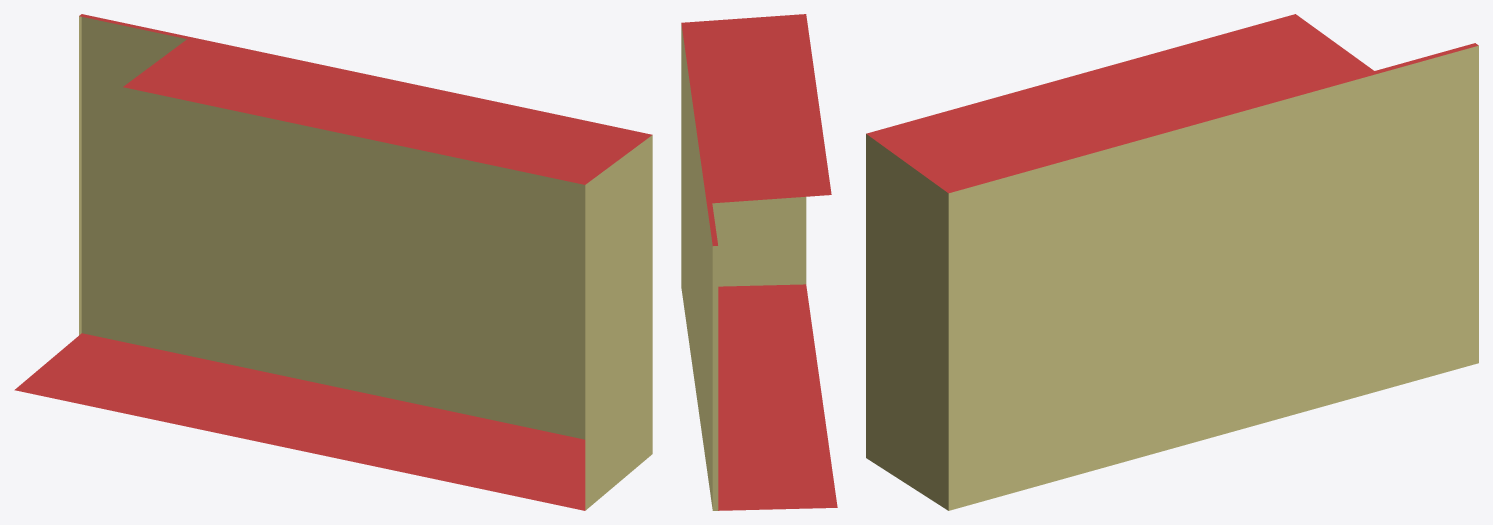
3 views of the same model, side by side, from view 1: azimuth 30°, elevation 25°; view 2: azimuth 150°, elevation 25°; view 3: azimuth 270°, elevation 25° (orthographic). The views are drawn at different scales.
Size of the model in its own units: 8.66 by 11.18 by 6.52.
